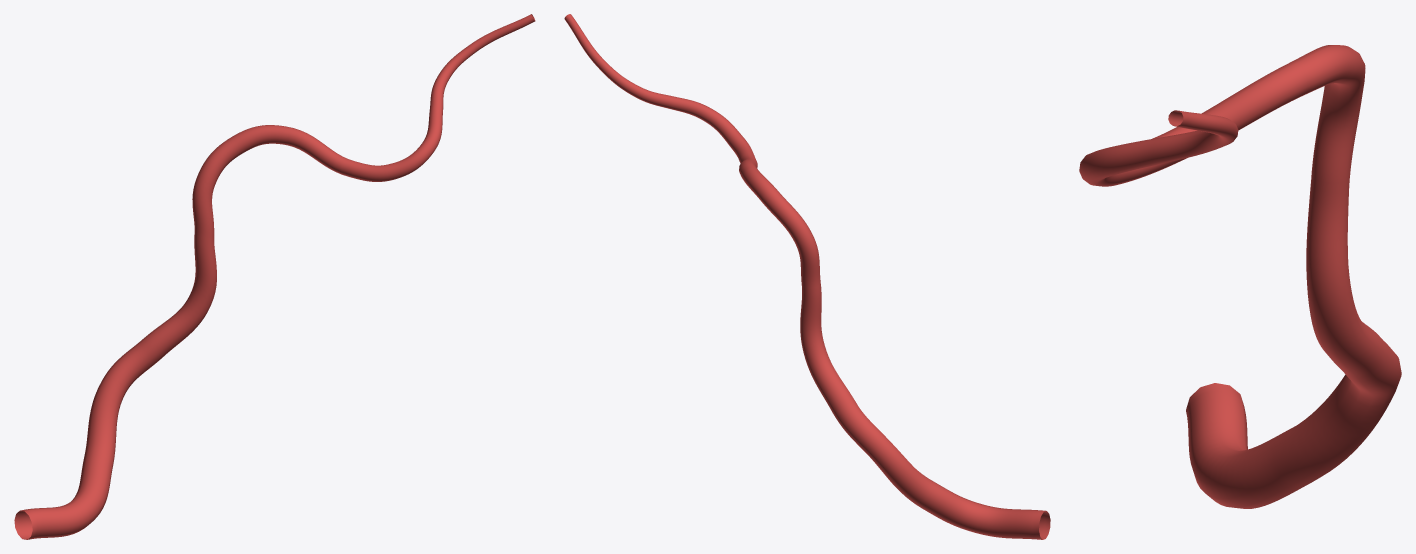
The picture shows the model from 3 angles, left to right: view 1: azimuth 30°, elevation 25°; view 2: azimuth 150°, elevation 25°; view 3: azimuth 270°, elevation 25°; orthographic projection. The views are drawn at different scales.
Parts seen in each view (by area): view 1: 左侧小脑下前动脉; view 2: 左侧小脑下前动脉; view 3: 左侧小脑下前动脉.
Part boxes in pixels (x1,y1,x2,y2): 左侧小脑下前动脉: (14,14,535,539); 左侧小脑下前动脉: (564,14,1050,539); 左侧小脑下前动脉: (1079,45,1401,508).
Bounding box in the file's own units: 0.0509 × 0.0403 × 0.0145.
